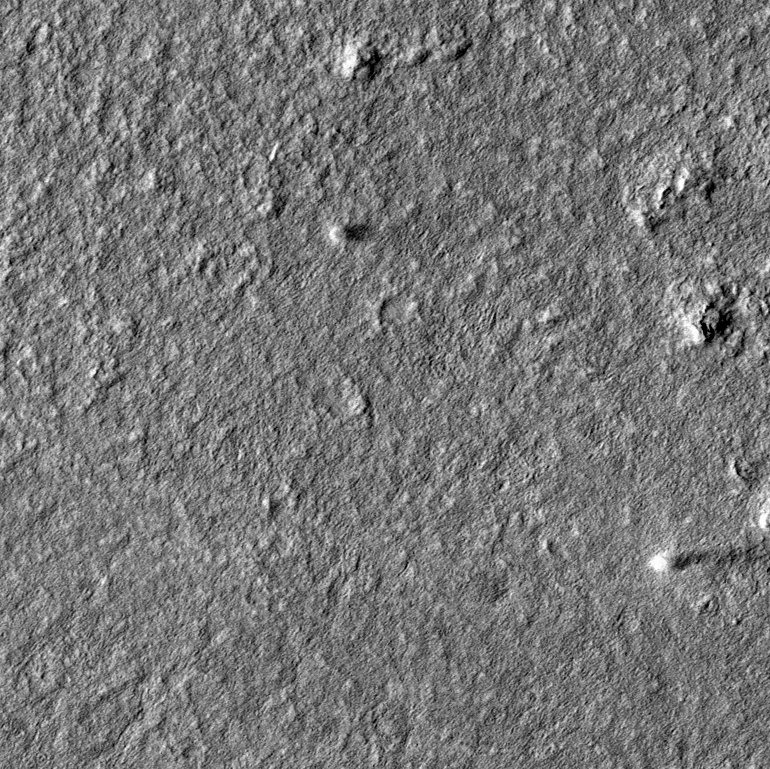dust_devil: (645, 545, 757, 576), (327, 223, 374, 245)
